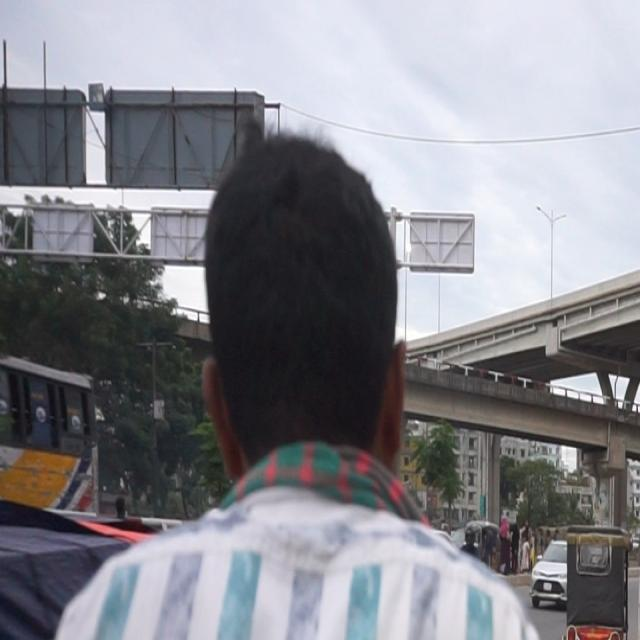bus: (604, 60, 640, 639)
